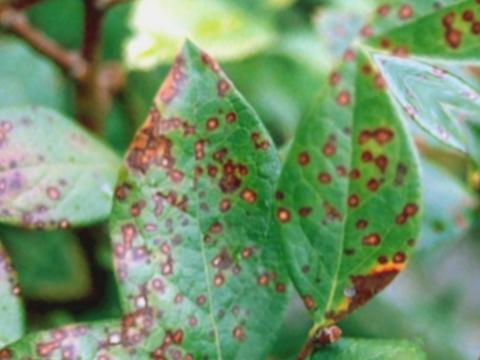Tomato Septoria leaf spot: (31, 32, 396, 360), (182, 38, 480, 360)
